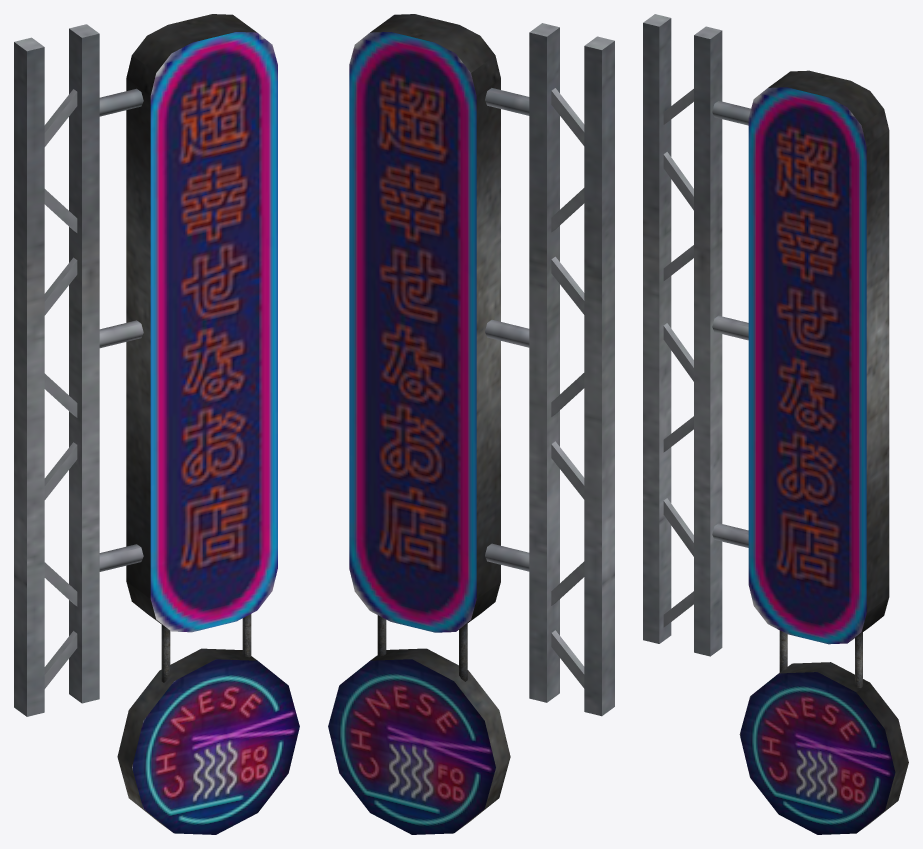
The model's file is SIN0210003.fbx.
3 renders of one model, left to right at view 1: azimuth 30°, elevation 25°; view 2: azimuth 150°, elevation 25°; view 3: azimuth 330°, elevation 25°, orthographic. The views are drawn at different scales.
Parts seen in each view (by area): view 1: smSIN0210003; view 2: smSIN0210003; view 3: smSIN0210003.
Part boxes in pixels (x1=…): smSIN0210003: x1=14, y1=14, x2=299, y2=834; smSIN0210003: x1=328, y1=14, x2=614, y2=834; smSIN0210003: x1=643, y1=14, x2=908, y2=834.
Size of the model in its own units: 109 by 316 by 16.82.
Materials: 1 (1 with a texture image).
